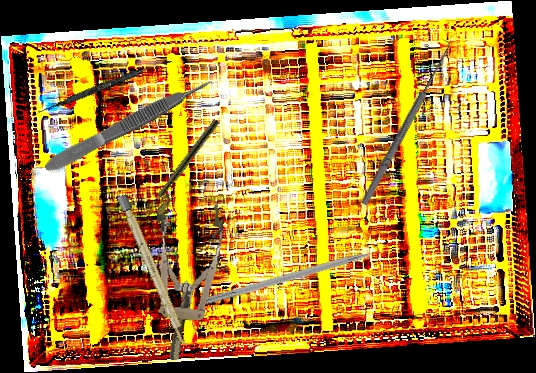Chopper: (205, 243, 397, 315)
Handpiece: (144, 117, 221, 214)
Hook Surgical: (353, 36, 456, 208)
Scalpel Handle: (117, 194, 190, 348)
Spatula Surgical: (37, 54, 172, 118)
Speculum: (139, 193, 227, 364)
Tissue Forceps: (41, 74, 217, 176)
